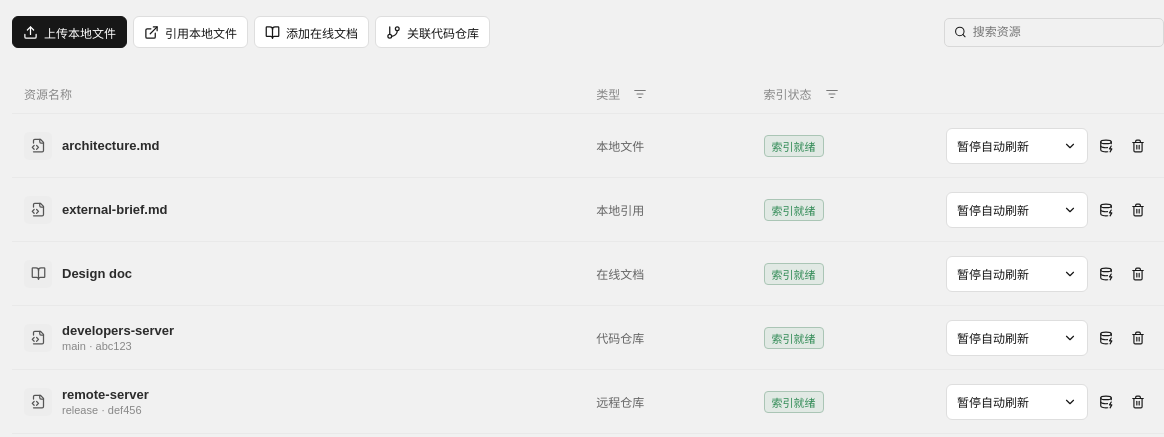
Scenario: SpaceKnowledgePanel › filters resource rows by the type selector in the table header
The width and height of the screenshot is (1164, 437).
Check: the text "本地文件" is shown, box [596,140,644,154]
Check: the text "本地引用" is shown, box [596,204,644,218]
Click the button named "按类型筛选资源": (640, 94) [628,82,652,106]
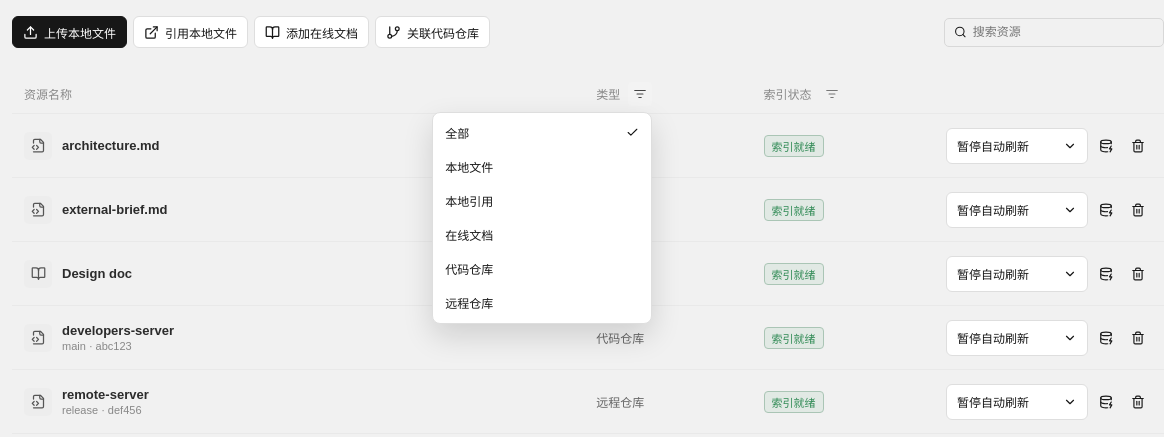
Click the menu item "本地引用": (542, 200) [437,184,647,216]
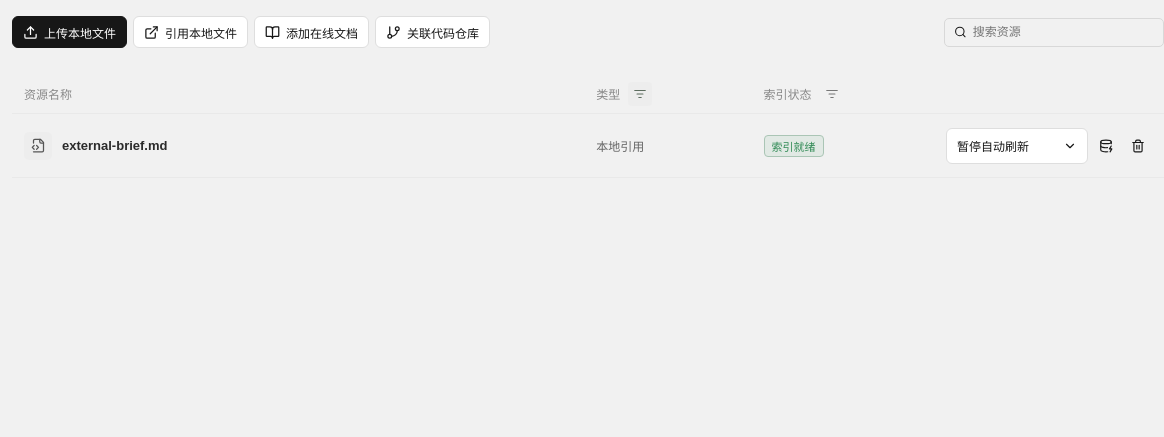
Check: the button "architecture.md" is gone
Check: the button "Design doc" is gone
Check: the button "developers-server" is gone
